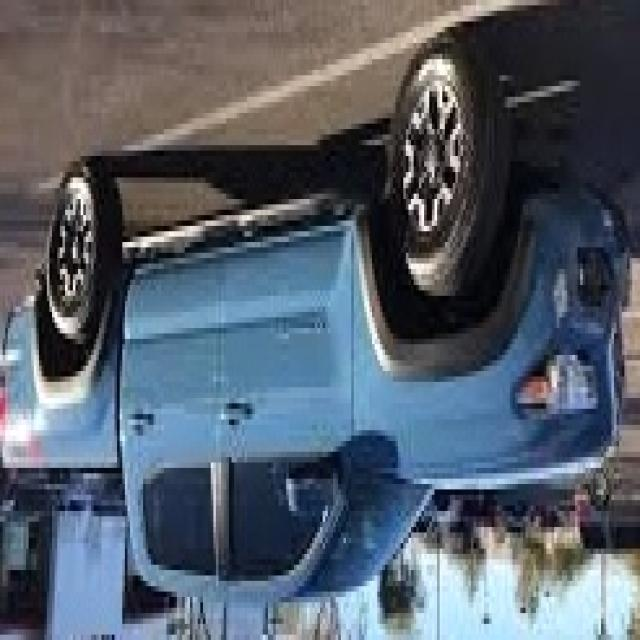blue: (2, 0, 640, 629)
